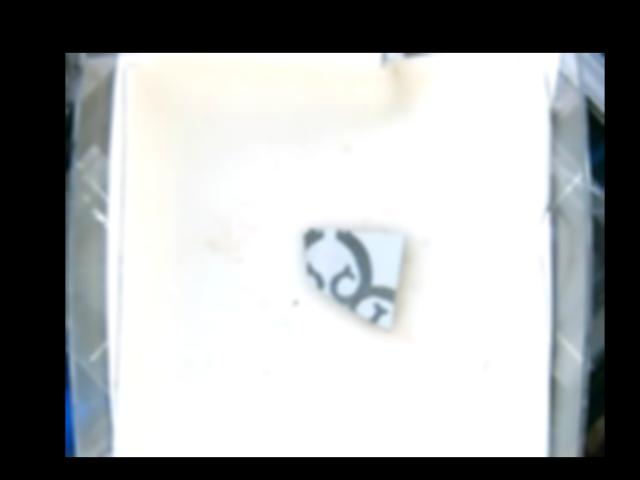China: (305, 227, 404, 329)
